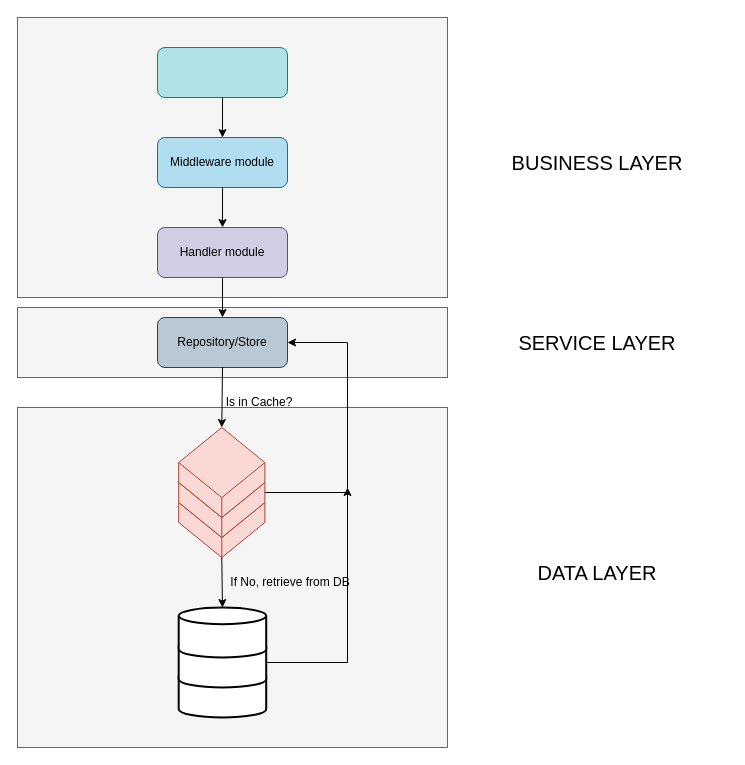
Some shapes in this 745 by 765 pixel diagram are drawn without their labels. The shapes that lost their labels are listed below. From the top down, each one's centre as x and y in pixels, then its label:
the point at 222,72: Router module
the point at 221,472: REDIS
